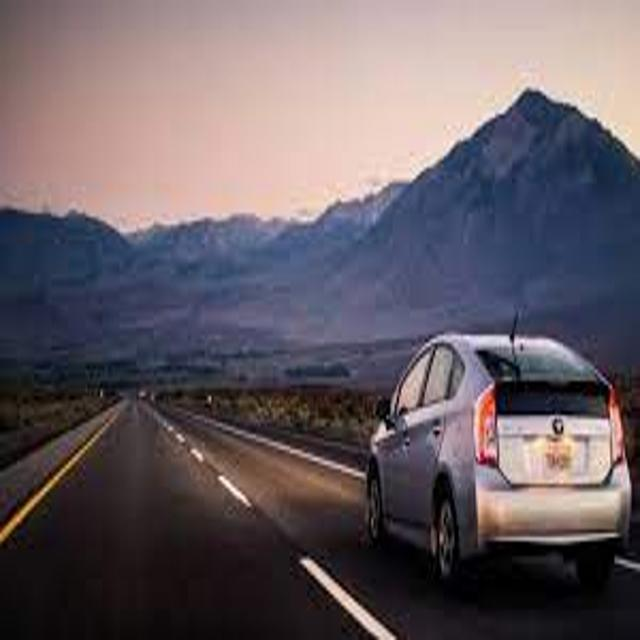car: (367, 334, 630, 576)
